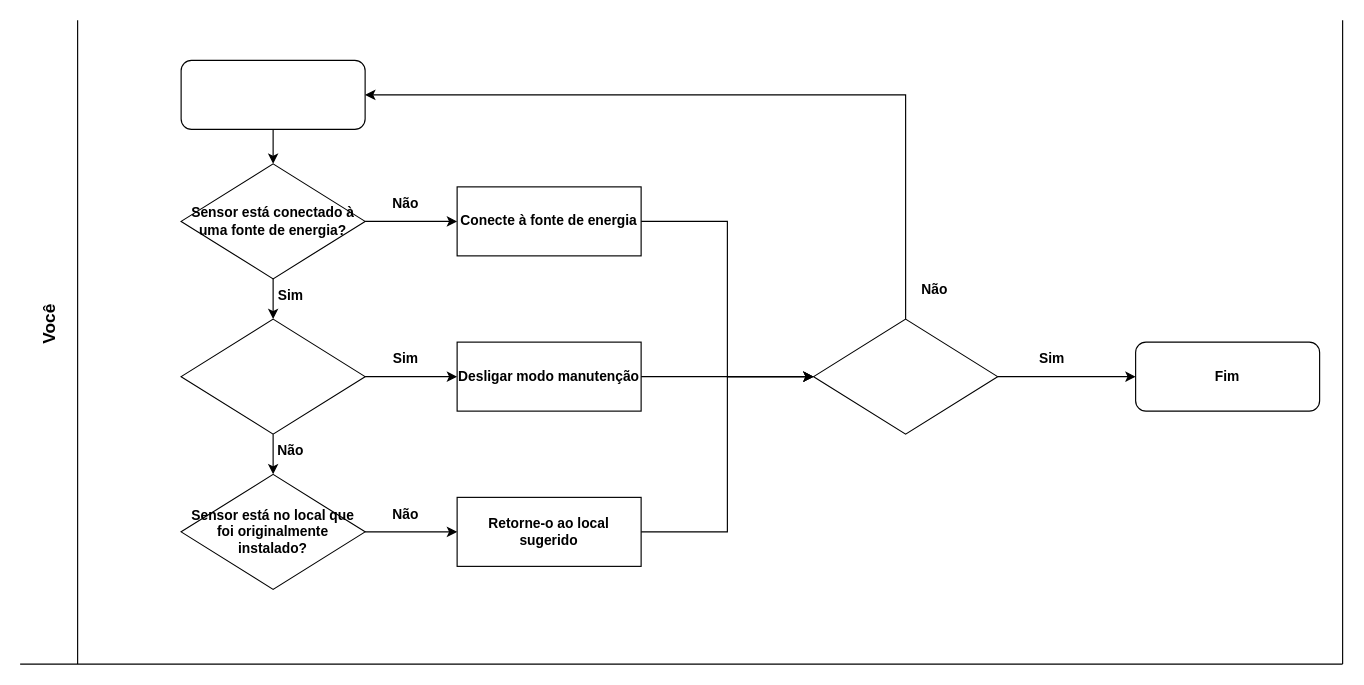
This 1364x685 diagram has some shape labels left out. The box of each missing label's shape, as (x1, y1, x2, y2) in pixels:
Funcionou?: (812, 318, 998, 434)
Sensor está em modo manutenção?: (180, 318, 365, 434)
Sensor não funciona: (180, 59, 365, 129)
